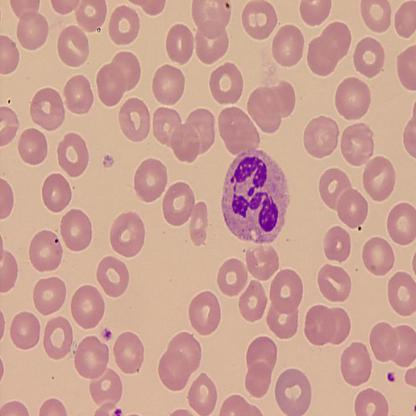Segmented neutrophil: (219, 147, 289, 246)
